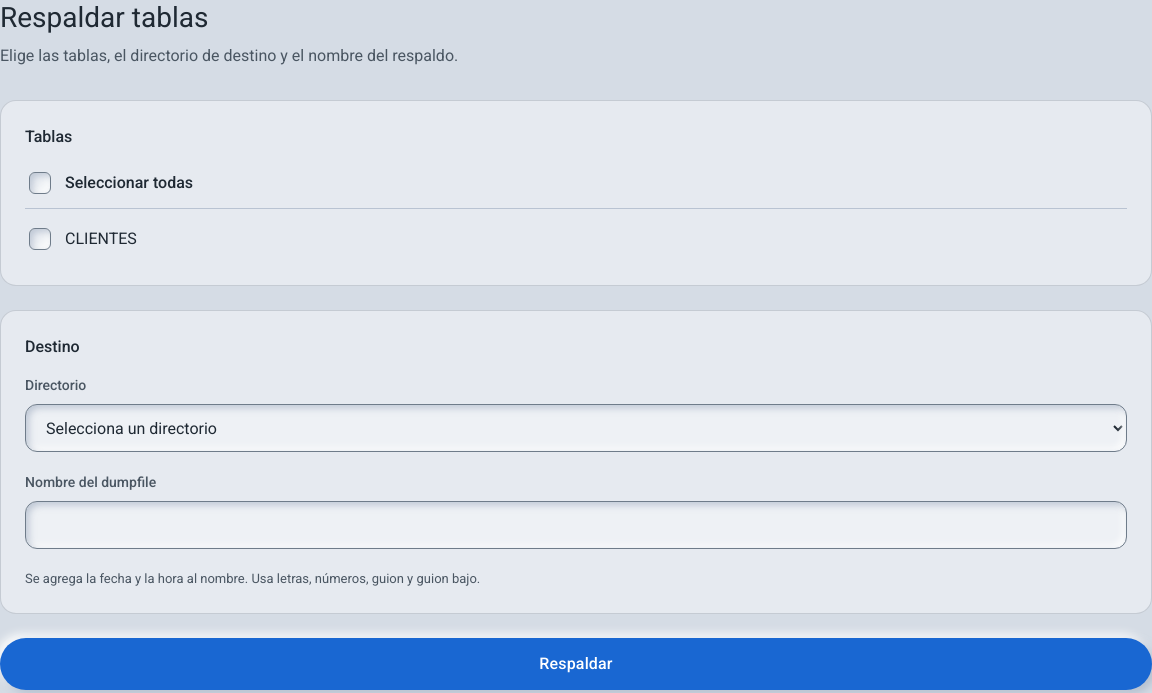
Test: explicación del fallo de expdp › muestra el mensaje, la explicación en lenguaje natural y el error de Oracle del log
Click the button "Respaldar" at coordinates (576, 664), box [0,638,1151,690]
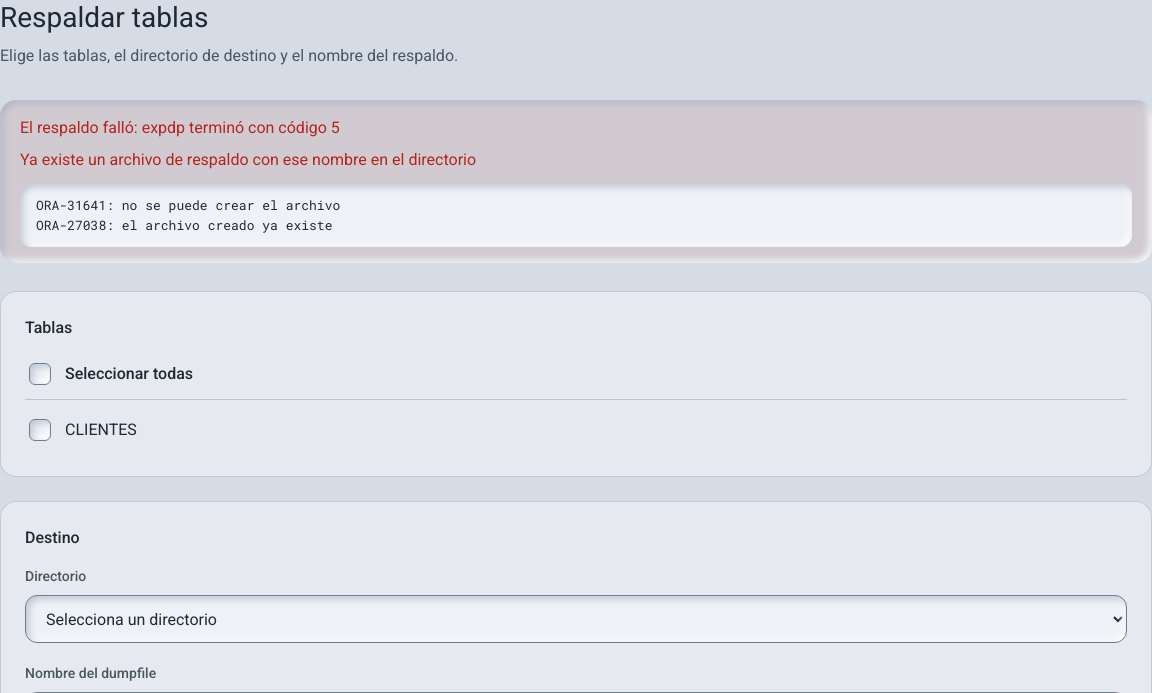
Now the message shows "El respaldo falló: expdp terminó con código 5", box [20,118,340,137]
Now the message shows "Ya existe un archivo de respaldo con ese nombre en el directorio", box [20,150,476,169]
Now the message shows "ORA-27038", box [36,196,340,234]
